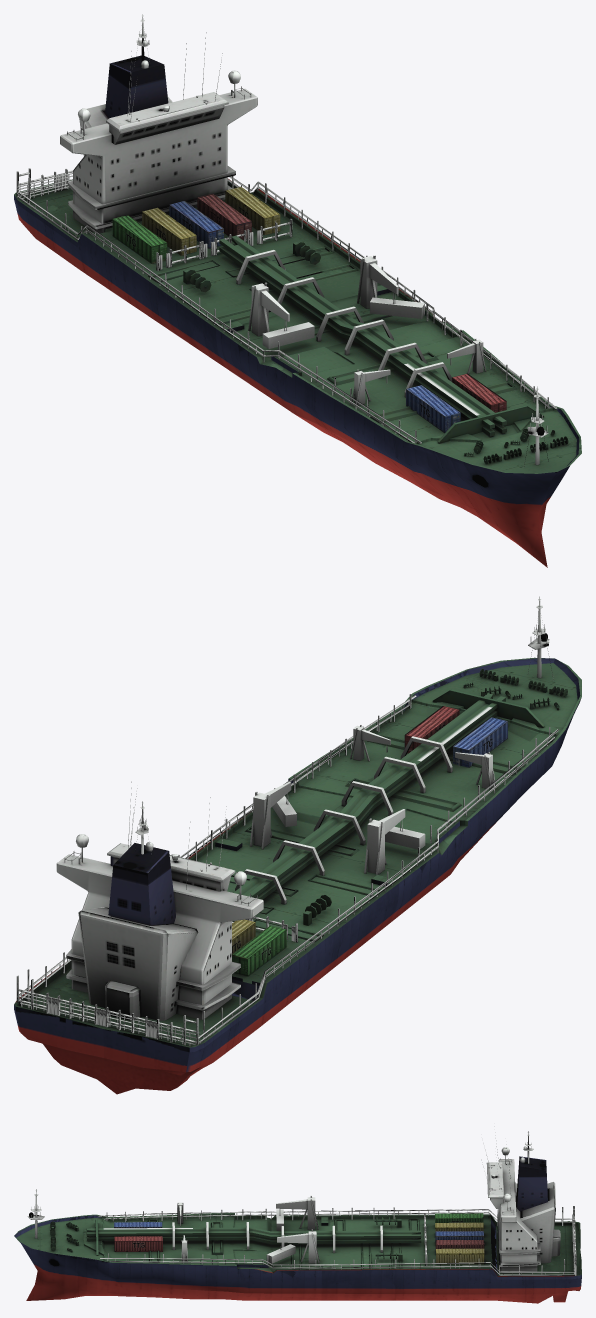
Rendered from Ship.obj.
The picture shows the model from 3 angles, top to bottom: view 1: azimuth 30°, elevation 25°; view 2: azimuth 150°, elevation 25°; view 3: azimuth 270°, elevation 25°; orthographic projection. The views are drawn at different scales.
Parts seen in each view (by area): view 1: DrawCall_0086; view 2: DrawCall_0086; view 3: DrawCall_0086.
Part boxes in pixels (bbox=[...]): DrawCall_0086: bbox=[14, 14, 581, 567]; DrawCall_0086: bbox=[14, 596, 581, 1094]; DrawCall_0086: bbox=[14, 1126, 581, 1303].
Bounding box in the file's own units: 61.29 × 82.49 × 253.
1 material, 1 textured.
